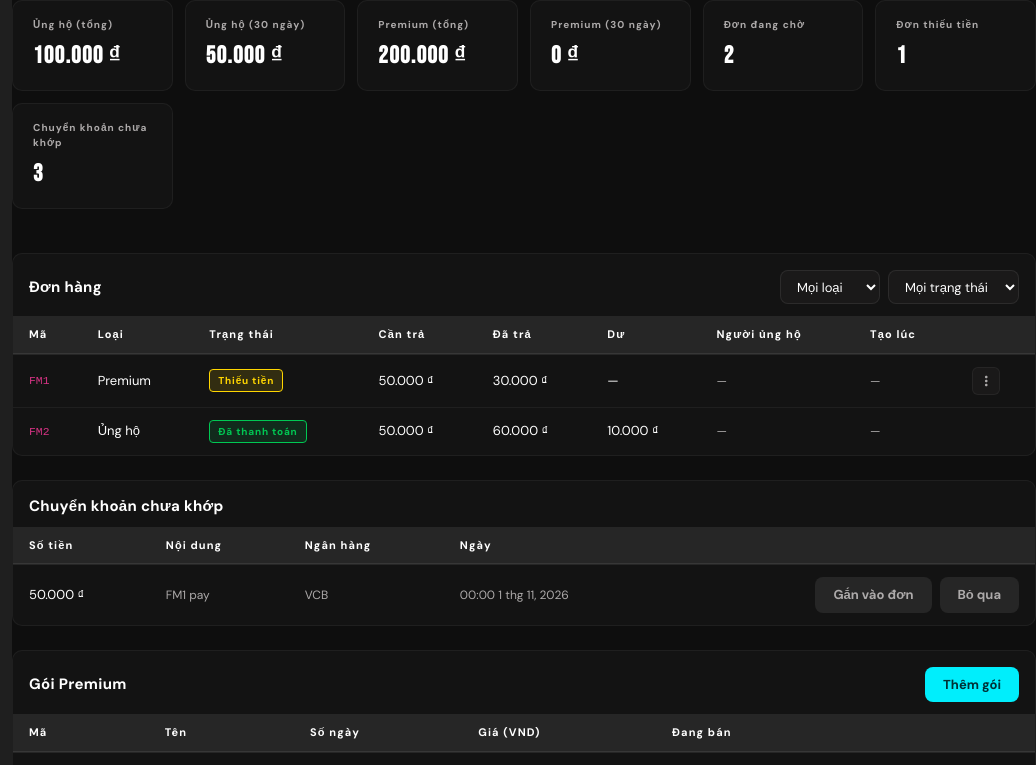
it: AdminPaymentsTab › shows the server error when linking fails
Click the button "Gắn vào đơn" at (874, 595), box [815, 577, 932, 612]
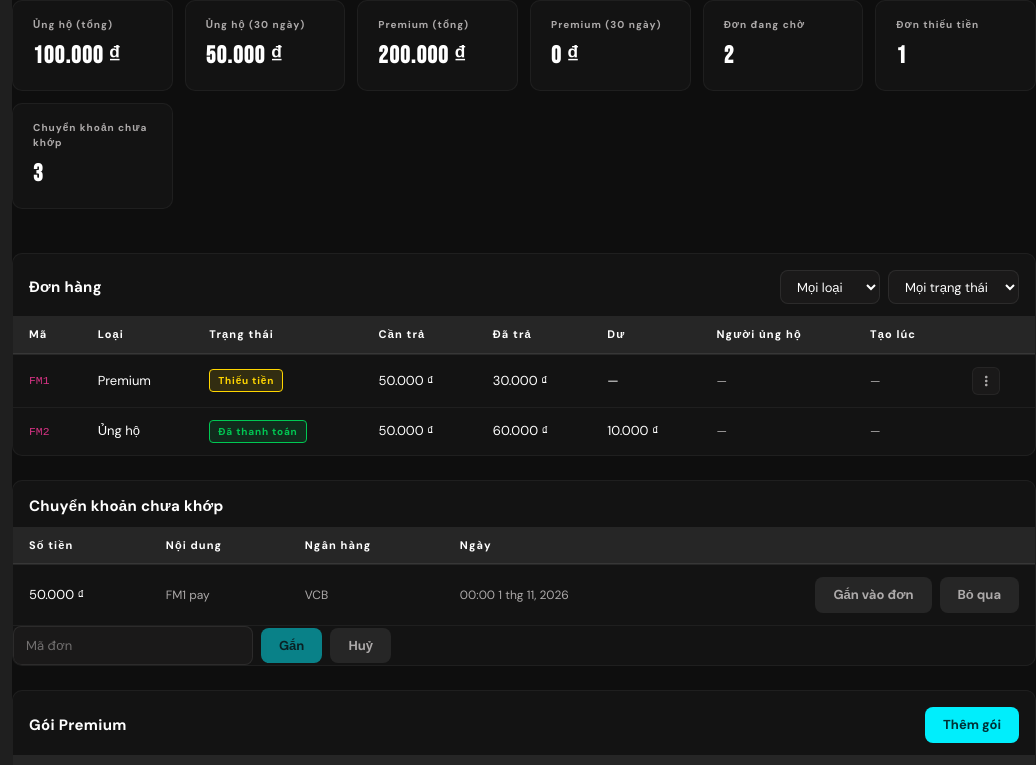
Type "FM1" into the field labelled "Mã đơn" at (133, 645), box [13, 626, 253, 665]
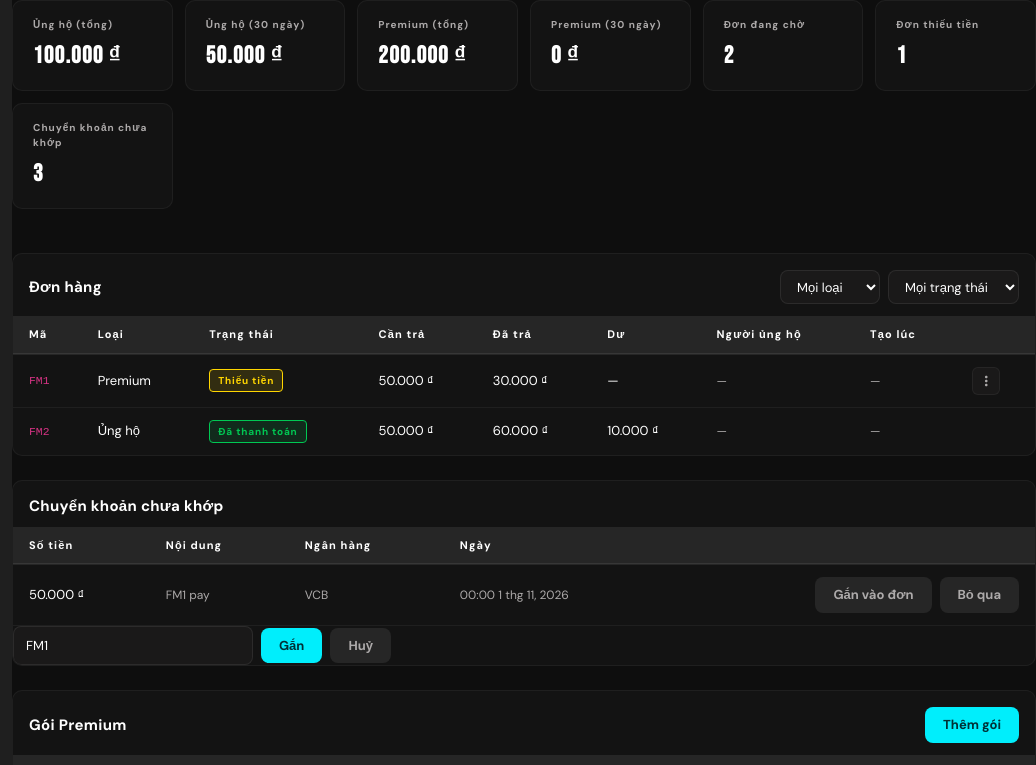
Click the button "Gắn" at (292, 645), box [261, 628, 322, 663]
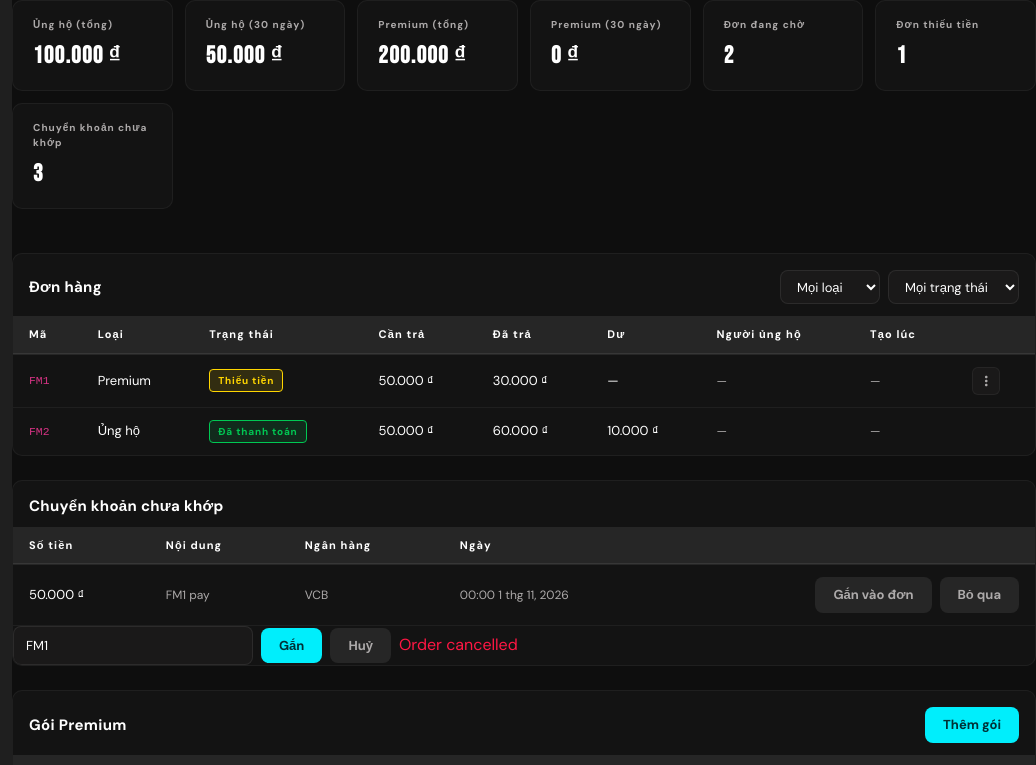
expect the text "Order cancelled" is shown: met, box [399, 633, 518, 657]
